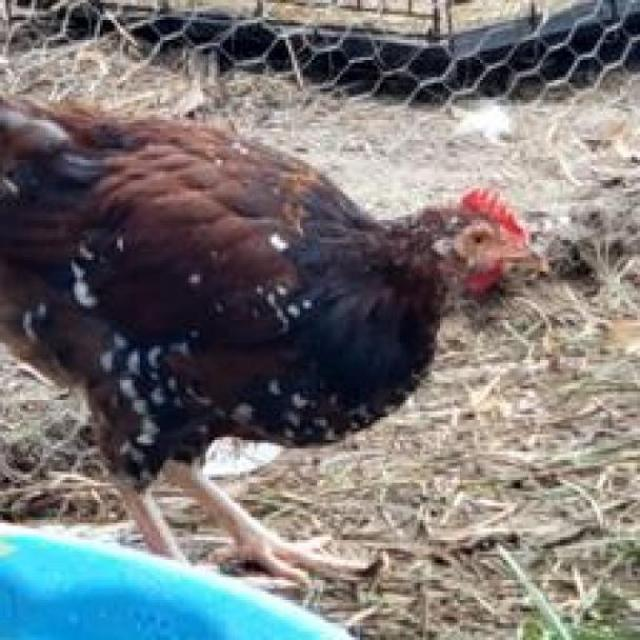Chicken: (0, 70, 622, 640)
